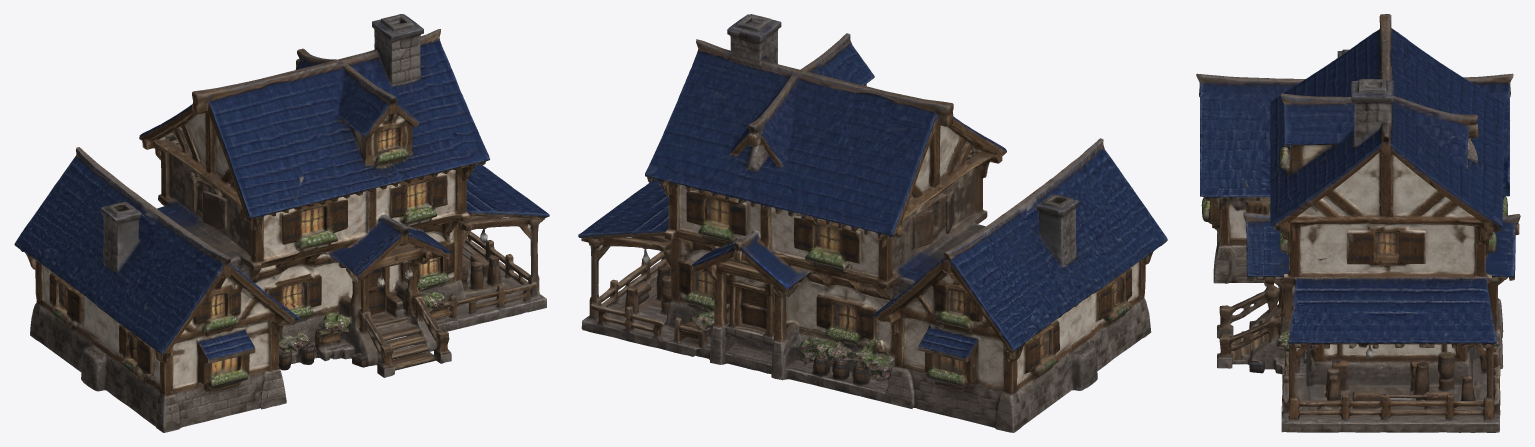
3 renders of one model, left to right at view 1: azimuth 30°, elevation 25°; view 2: azimuth 150°, elevation 25°; view 3: azimuth 270°, elevation 25°, orthographic. The views are drawn at different scales.
Size of the model in its own units: 18.06 by 11.3 by 11.24.
1 material, 1 textured.
